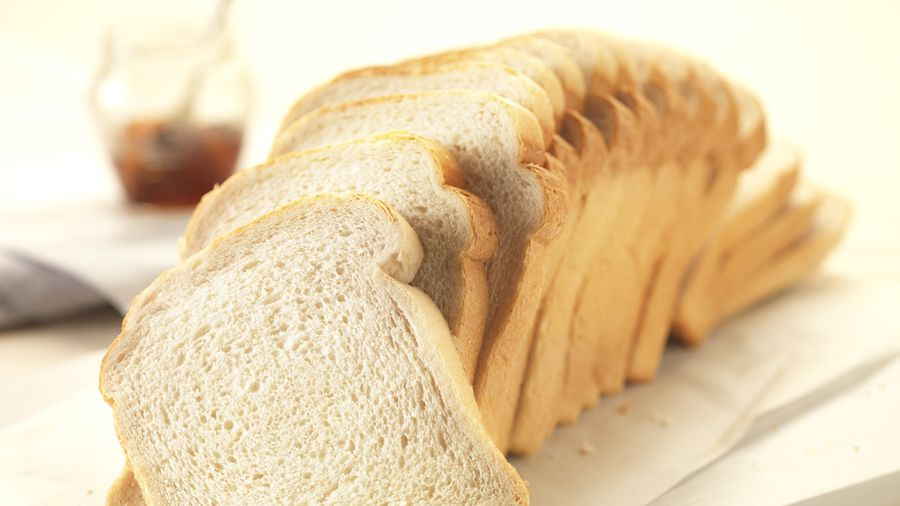slice of bread: (400, 30, 800, 396), (88, 278, 522, 506)
